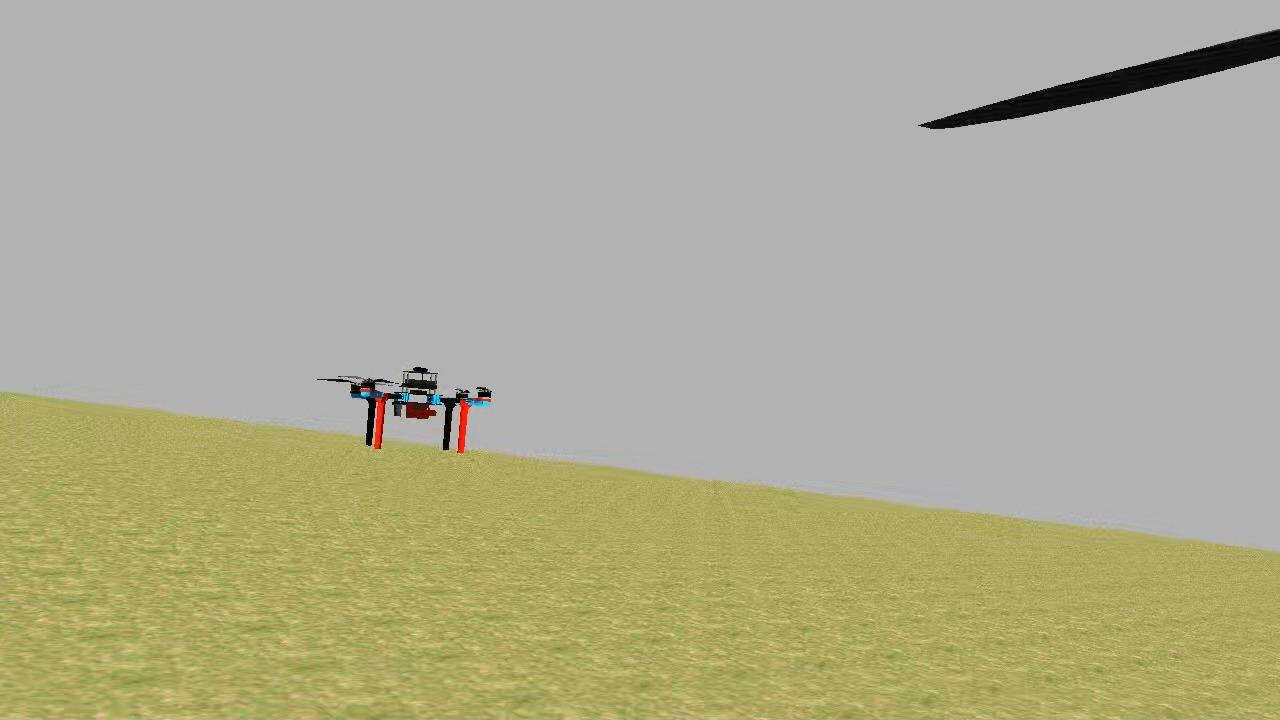UAV: (342, 360, 498, 458)
